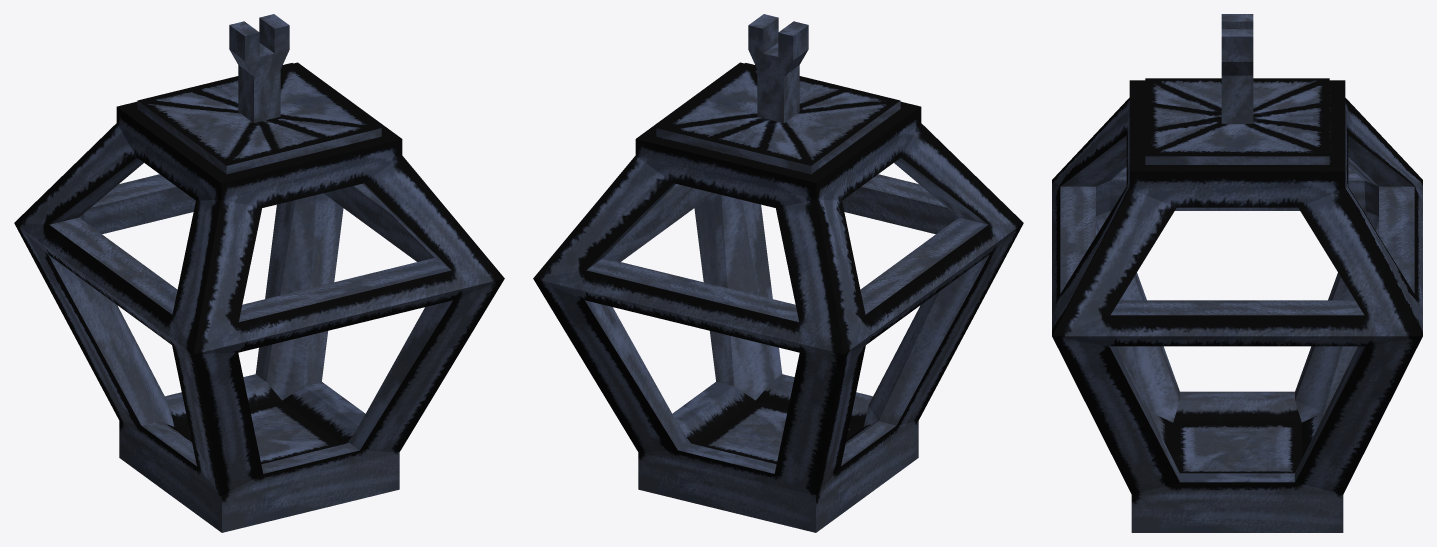
The model's file is OilLamp.fbx.
The picture shows the model from 3 angles, left to right: view 1: azimuth 30°, elevation 25°; view 2: azimuth 150°, elevation 25°; view 3: azimuth 270°, elevation 25°; orthographic projection. The views are drawn at different scales.
Visible parts, largest first — view 1: OilLamp; view 2: OilLamp; view 3: OilLamp.
Boxes of the visible parts, <box> form: OilLamp: <box>14,14,504,532</box>; OilLamp: <box>533,14,1023,532</box>; OilLamp: <box>1052,14,1422,532</box>.
Size of the model in its own units: 52.56 by 72.43 by 52.56.
